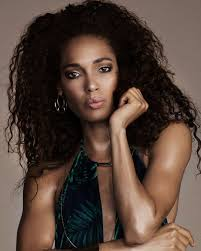black_female: (17, 6, 173, 130)
